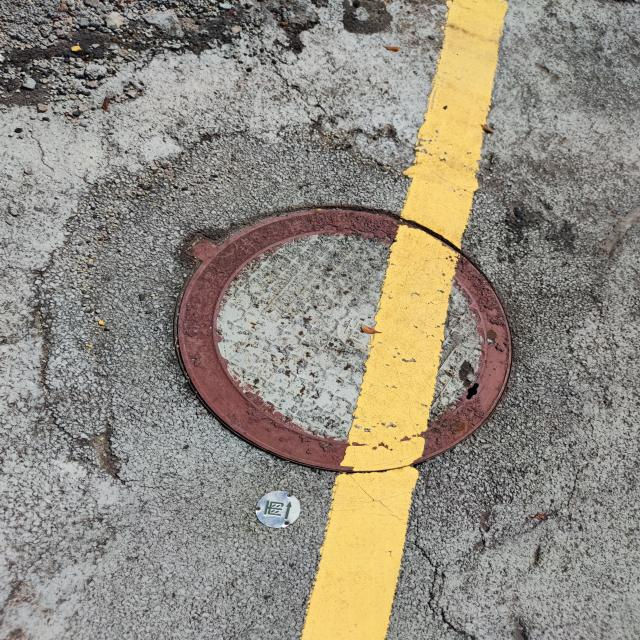Good: (172, 198, 526, 471)
